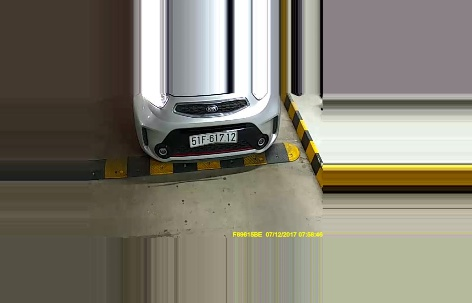plate: (188, 130, 239, 147)
